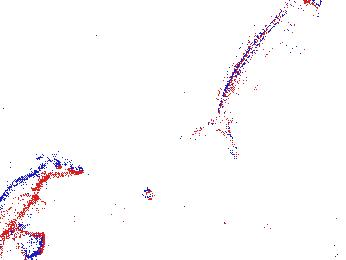glassfish: (190, 1, 325, 146)
siberian prawn: (1, 156, 84, 239)
